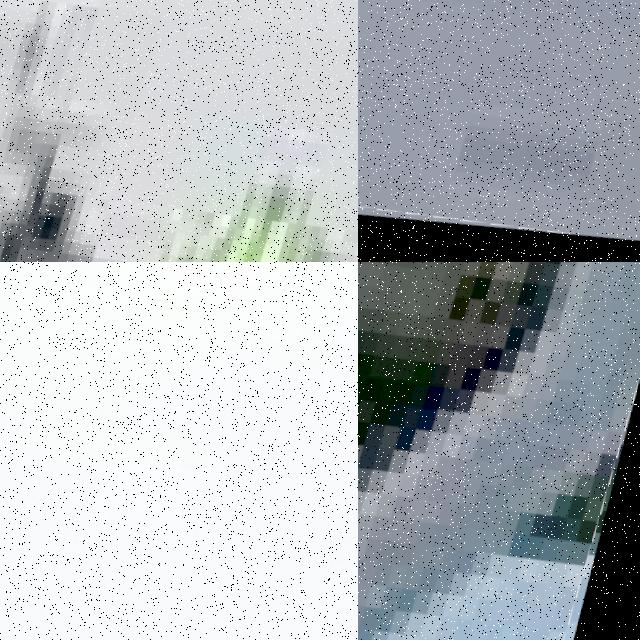drone: (0, 262, 358, 640), (358, 262, 640, 640), (0, 0, 358, 262), (358, 0, 640, 262)
